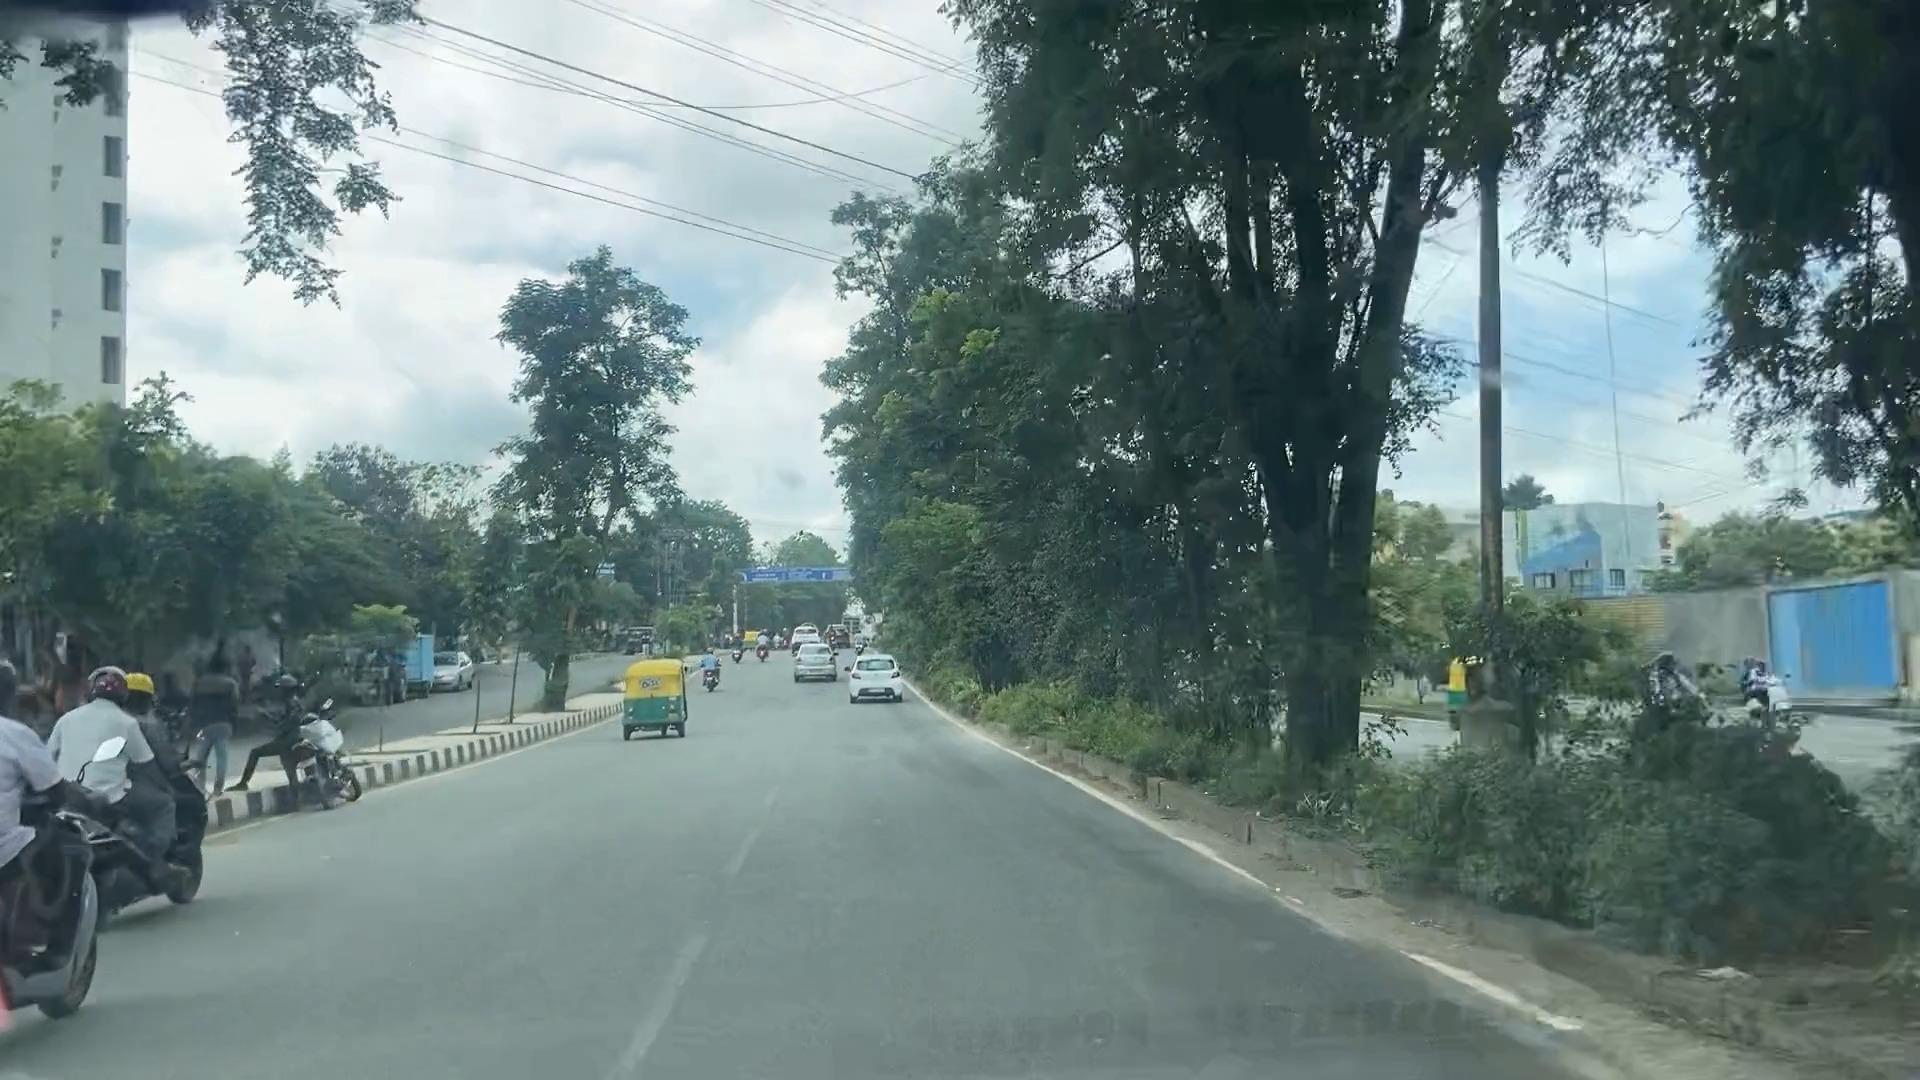LMV: (620, 654, 696, 742), (848, 644, 894, 713), (789, 640, 835, 686)
